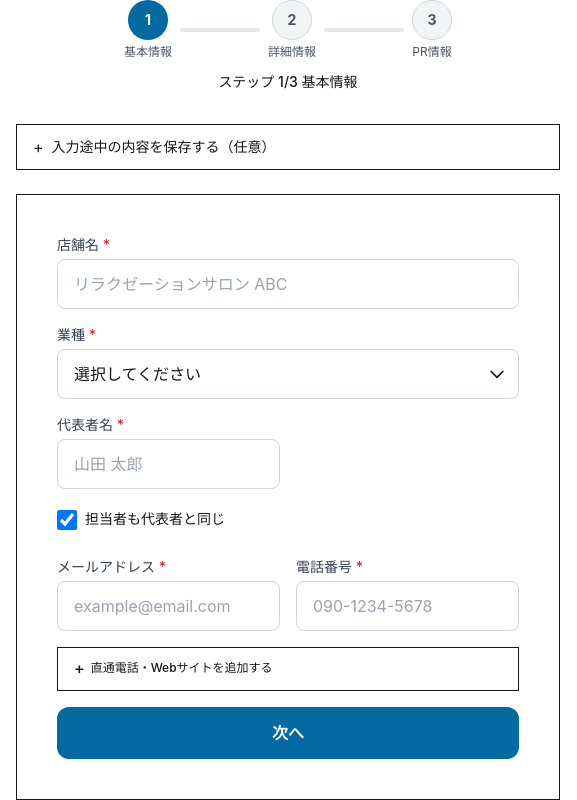
Scenario: 入力エラー › エラー文は欄と aria-describedby で結び、aria-invalid を付ける。role=alert は要約 1 つだけ
Expected: the field labelled "店舗名 *" is enabled, [57,259,519,309]
Click the button "次へ": (288, 733) [57,707,519,759]
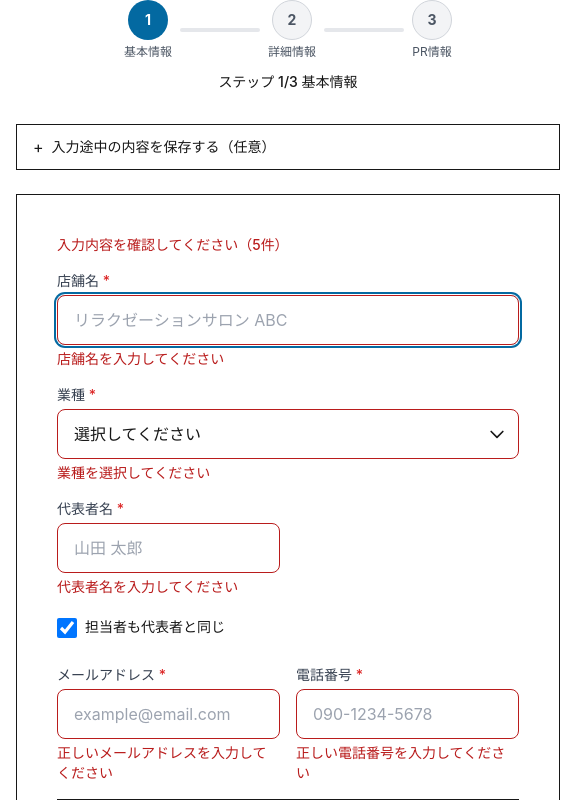
Now the number of messages is 1, box [57,236,289,253]
Now the message reads "入力内容を確認してください（5件）", box [57,236,289,253]
